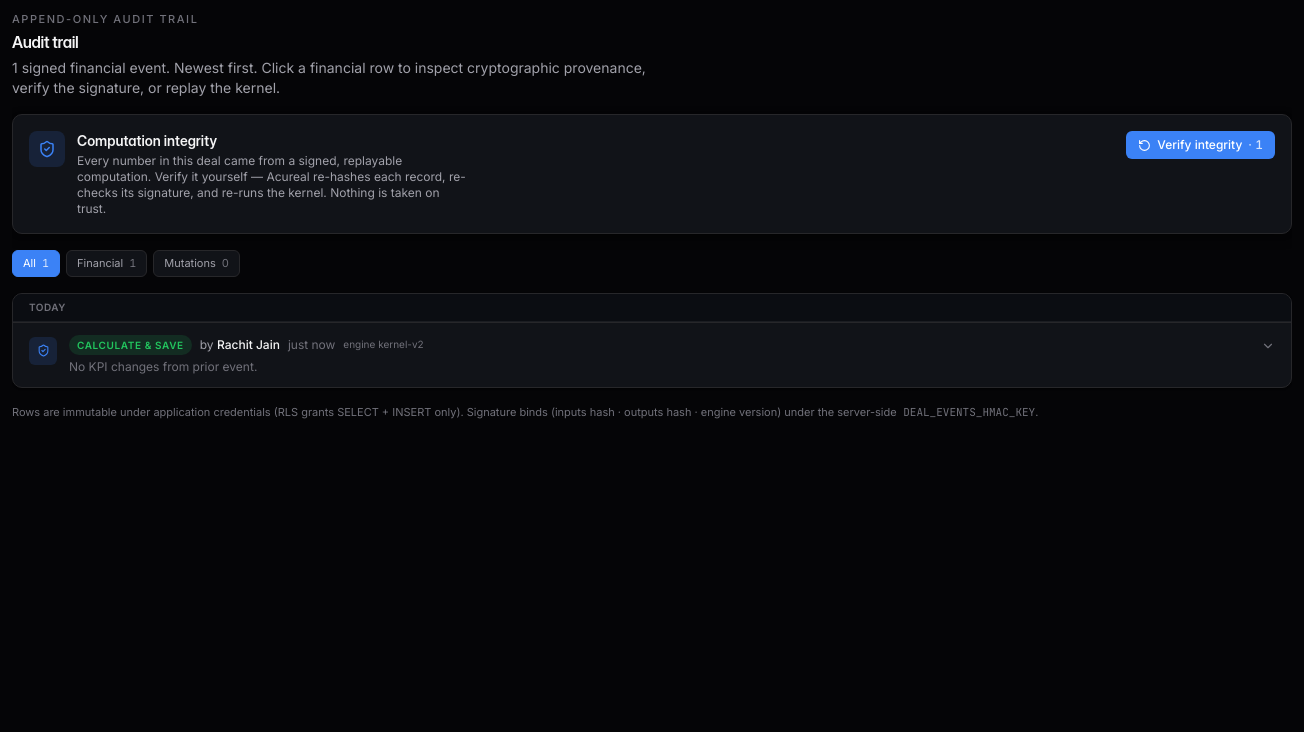
Scenario: AuditTab — computation integrity panel › surfaces an integrity issue when an event fails verification
Step 1. Click the button "Verify integrity · 1" → (1201, 145), box [1126,131,1275,159]
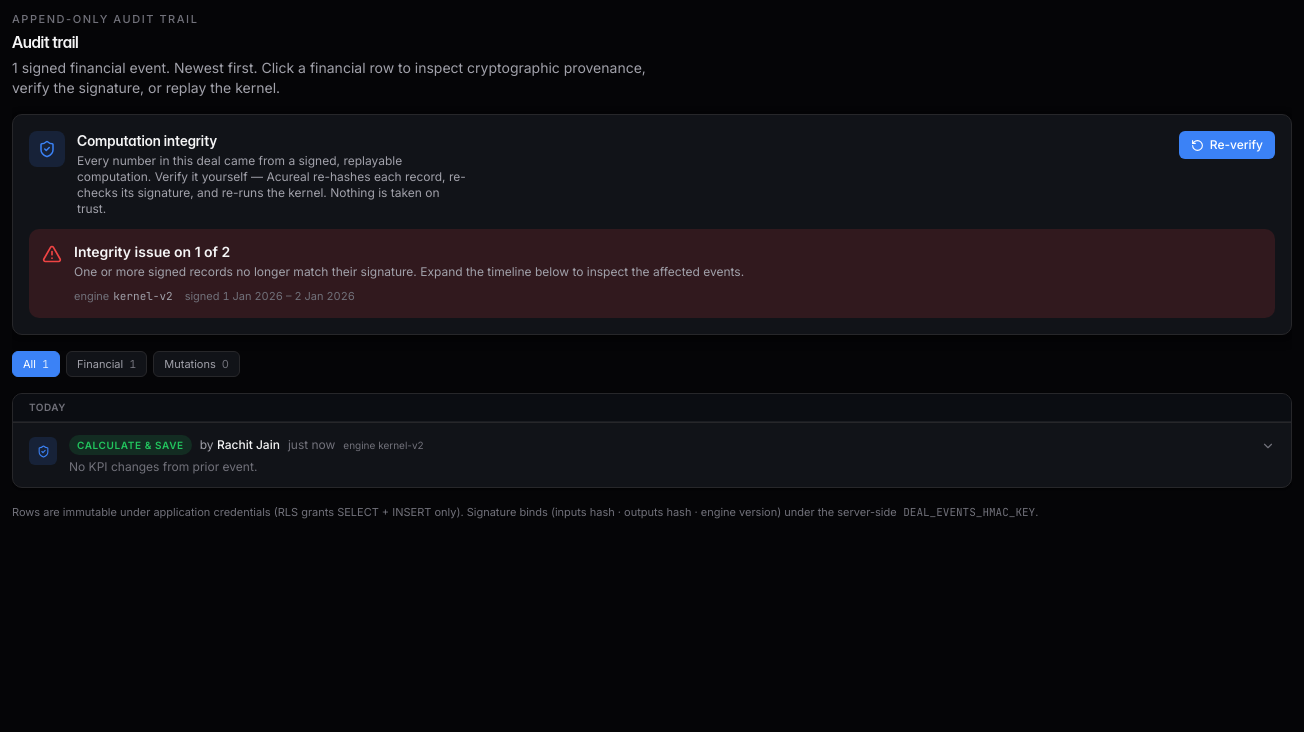
expect the text "Integrity issue on 1 of 2" is shown: met, box [74,243,230,260]
